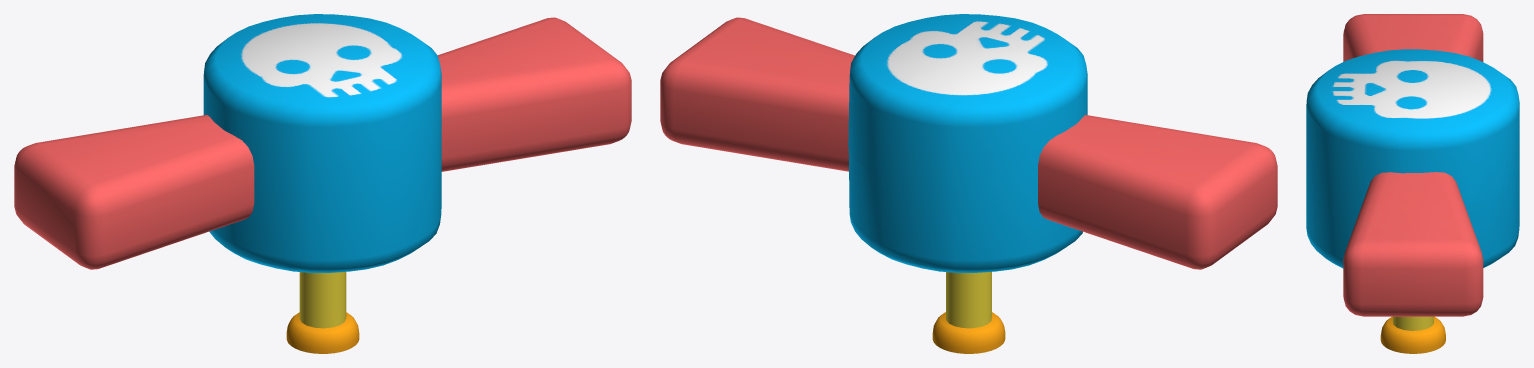
Rendered from rotate_small_vertical_2.FBX.
The picture shows the model from 3 angles, left to right: view 1: azimuth 30°, elevation 25°; view 2: azimuth 150°, elevation 25°; view 3: azimuth 270°, elevation 25°; orthographic projection. The views are drawn at different scales.
Parts seen in each view (by area): view 1: rotate_small_vertical_2; view 2: rotate_small_vertical_2; view 3: rotate_small_vertical_2.
Boxes of the visible parts, bbox=[...] form: rotate_small_vertical_2: bbox=[14, 14, 631, 353]; rotate_small_vertical_2: bbox=[660, 14, 1277, 353]; rotate_small_vertical_2: bbox=[1306, 14, 1519, 353].
Size of the model in its own units: 4 by 1.93 by 1.49.
Materials: 1 (1 with a texture image).
